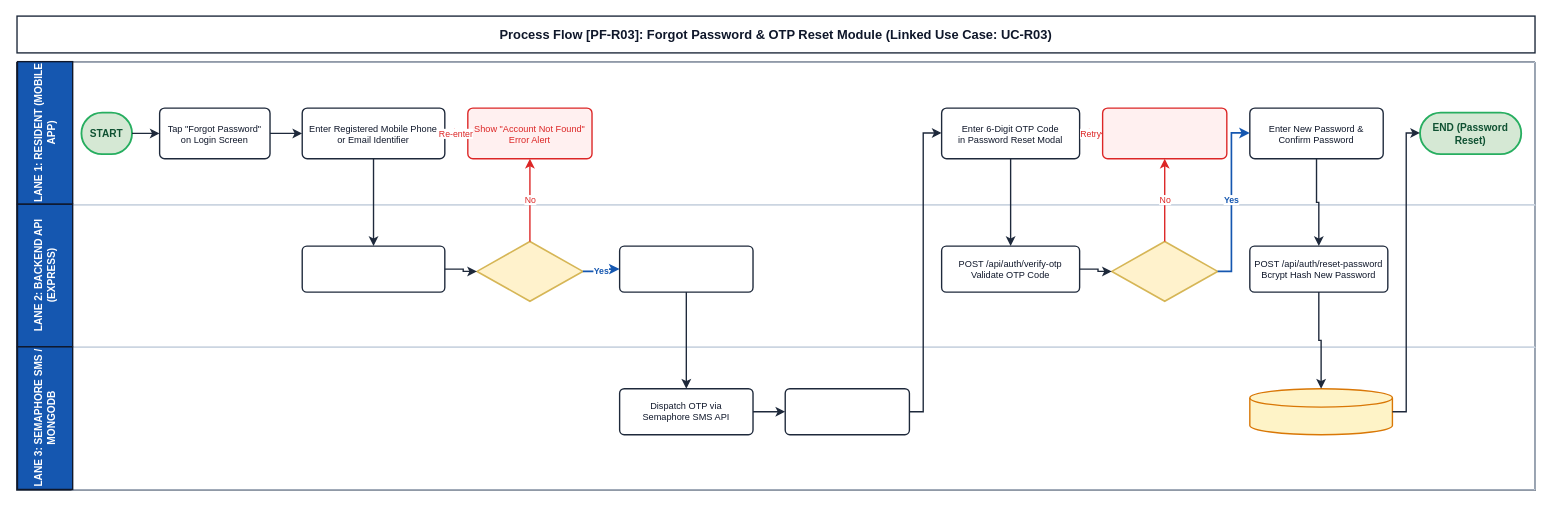
The diagram is 1551 pixels wide and 507 high, and some of its shapes have lost their labels. The shapes that lost their labels are listed below. From the top down, each one's centre as x and y in pixels, then its label:
point 1164,133: Show "Invalid OTP" & Resend Option
point 373,268: POST /api/auth/send-otp Lookup Account by Phone
point 529,271: User Found?
point 686,268: Generate 6-Digit Password Reset OTP (5-min exp)
point 1164,271: OTP Valid?
point 847,411: SMS Delivered to Citizen Phone
point 1321,411: MongoDB: Update User.password Hash in Database
